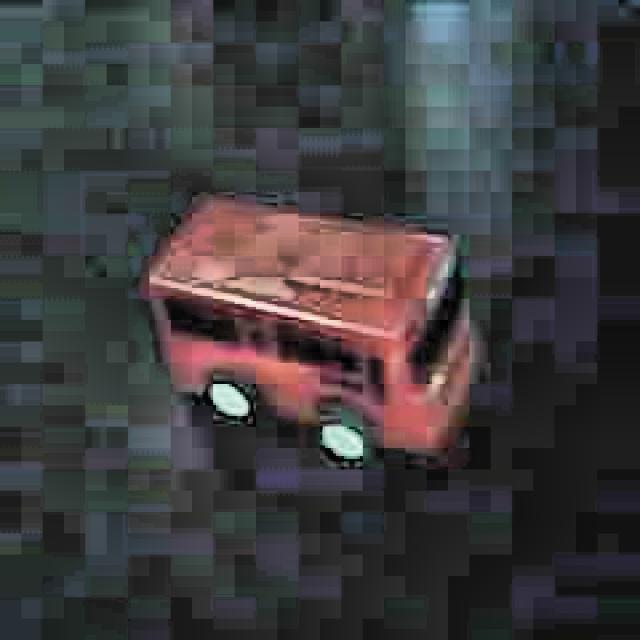bus: (138, 187, 497, 481)
